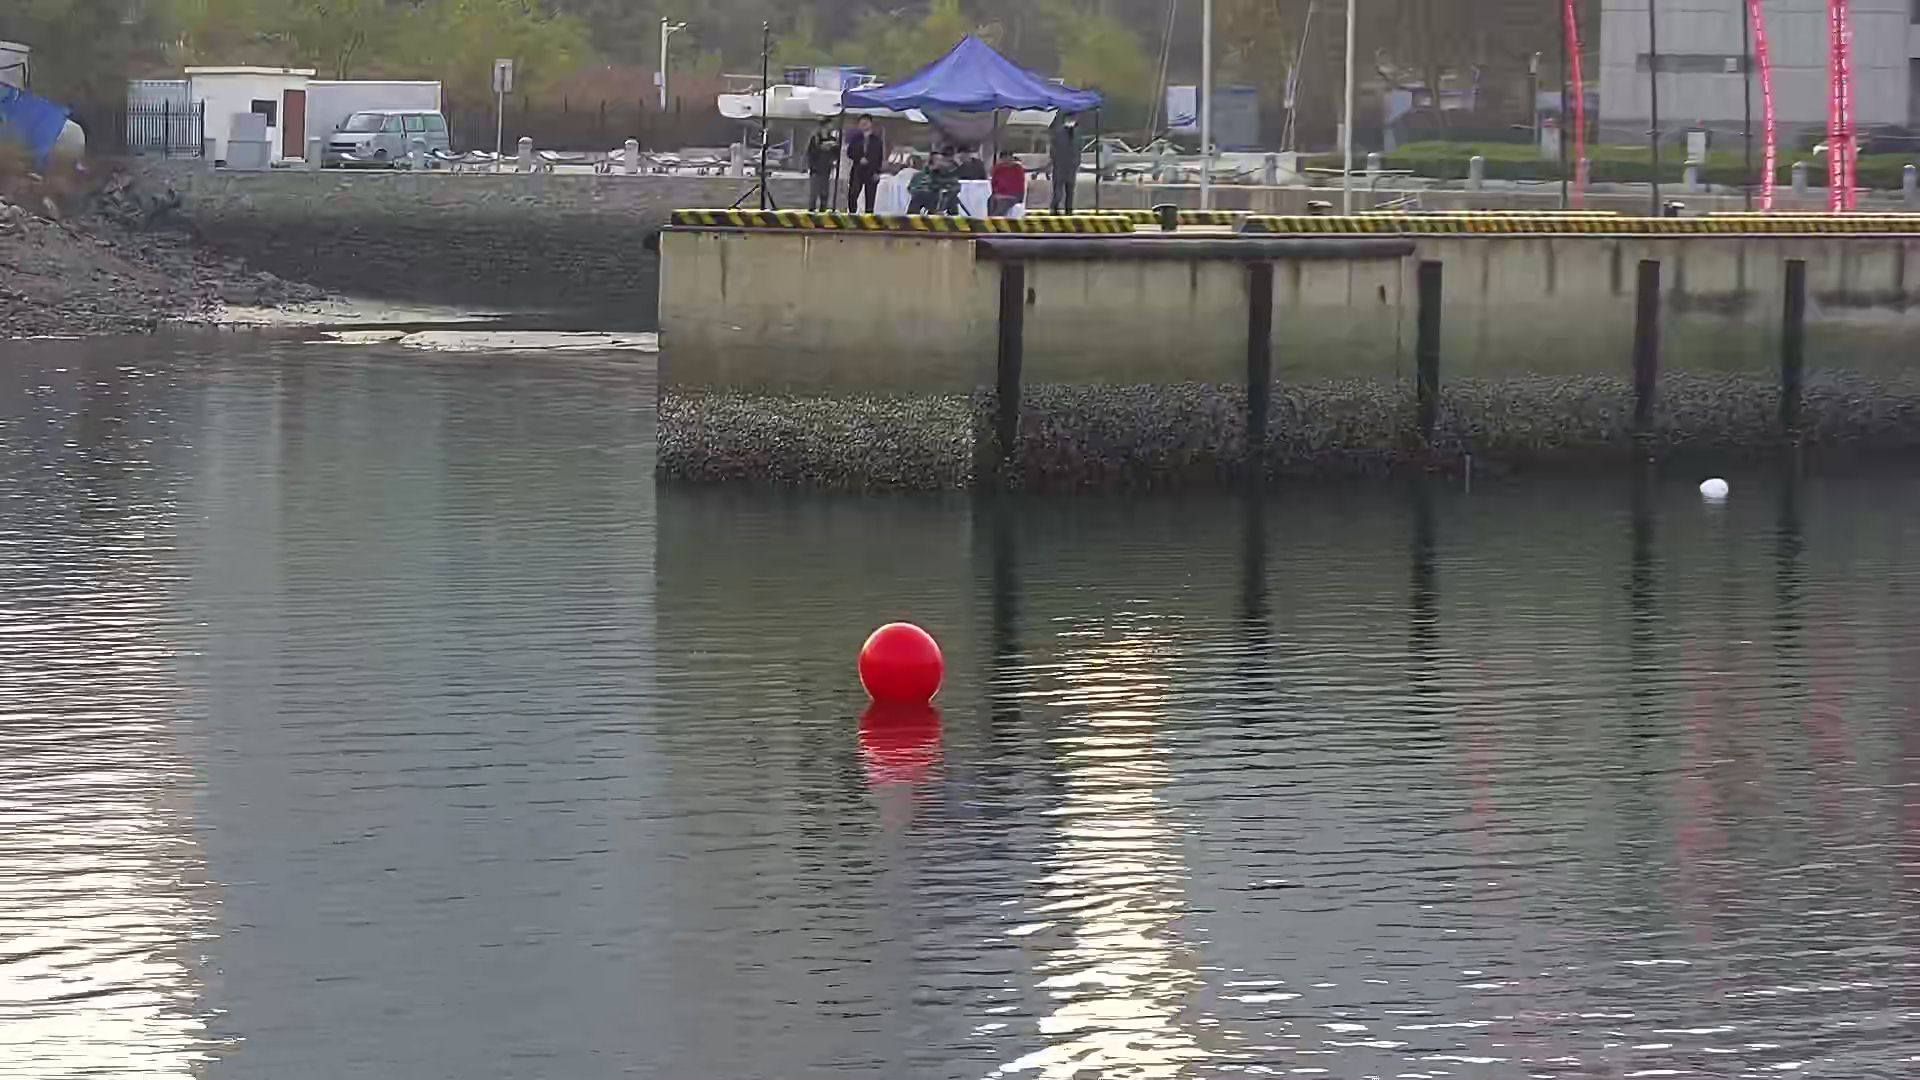rubbish: (851, 616, 943, 708), (1698, 475, 1730, 501)
